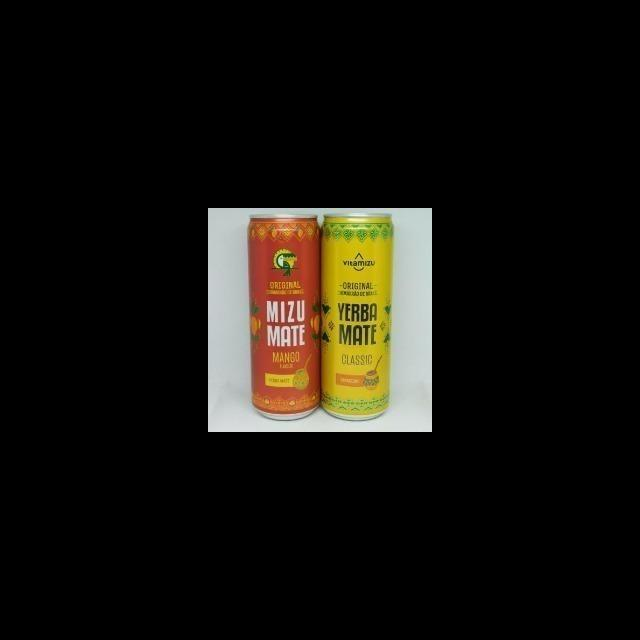metal: (319, 208, 396, 425), (247, 208, 323, 423)
